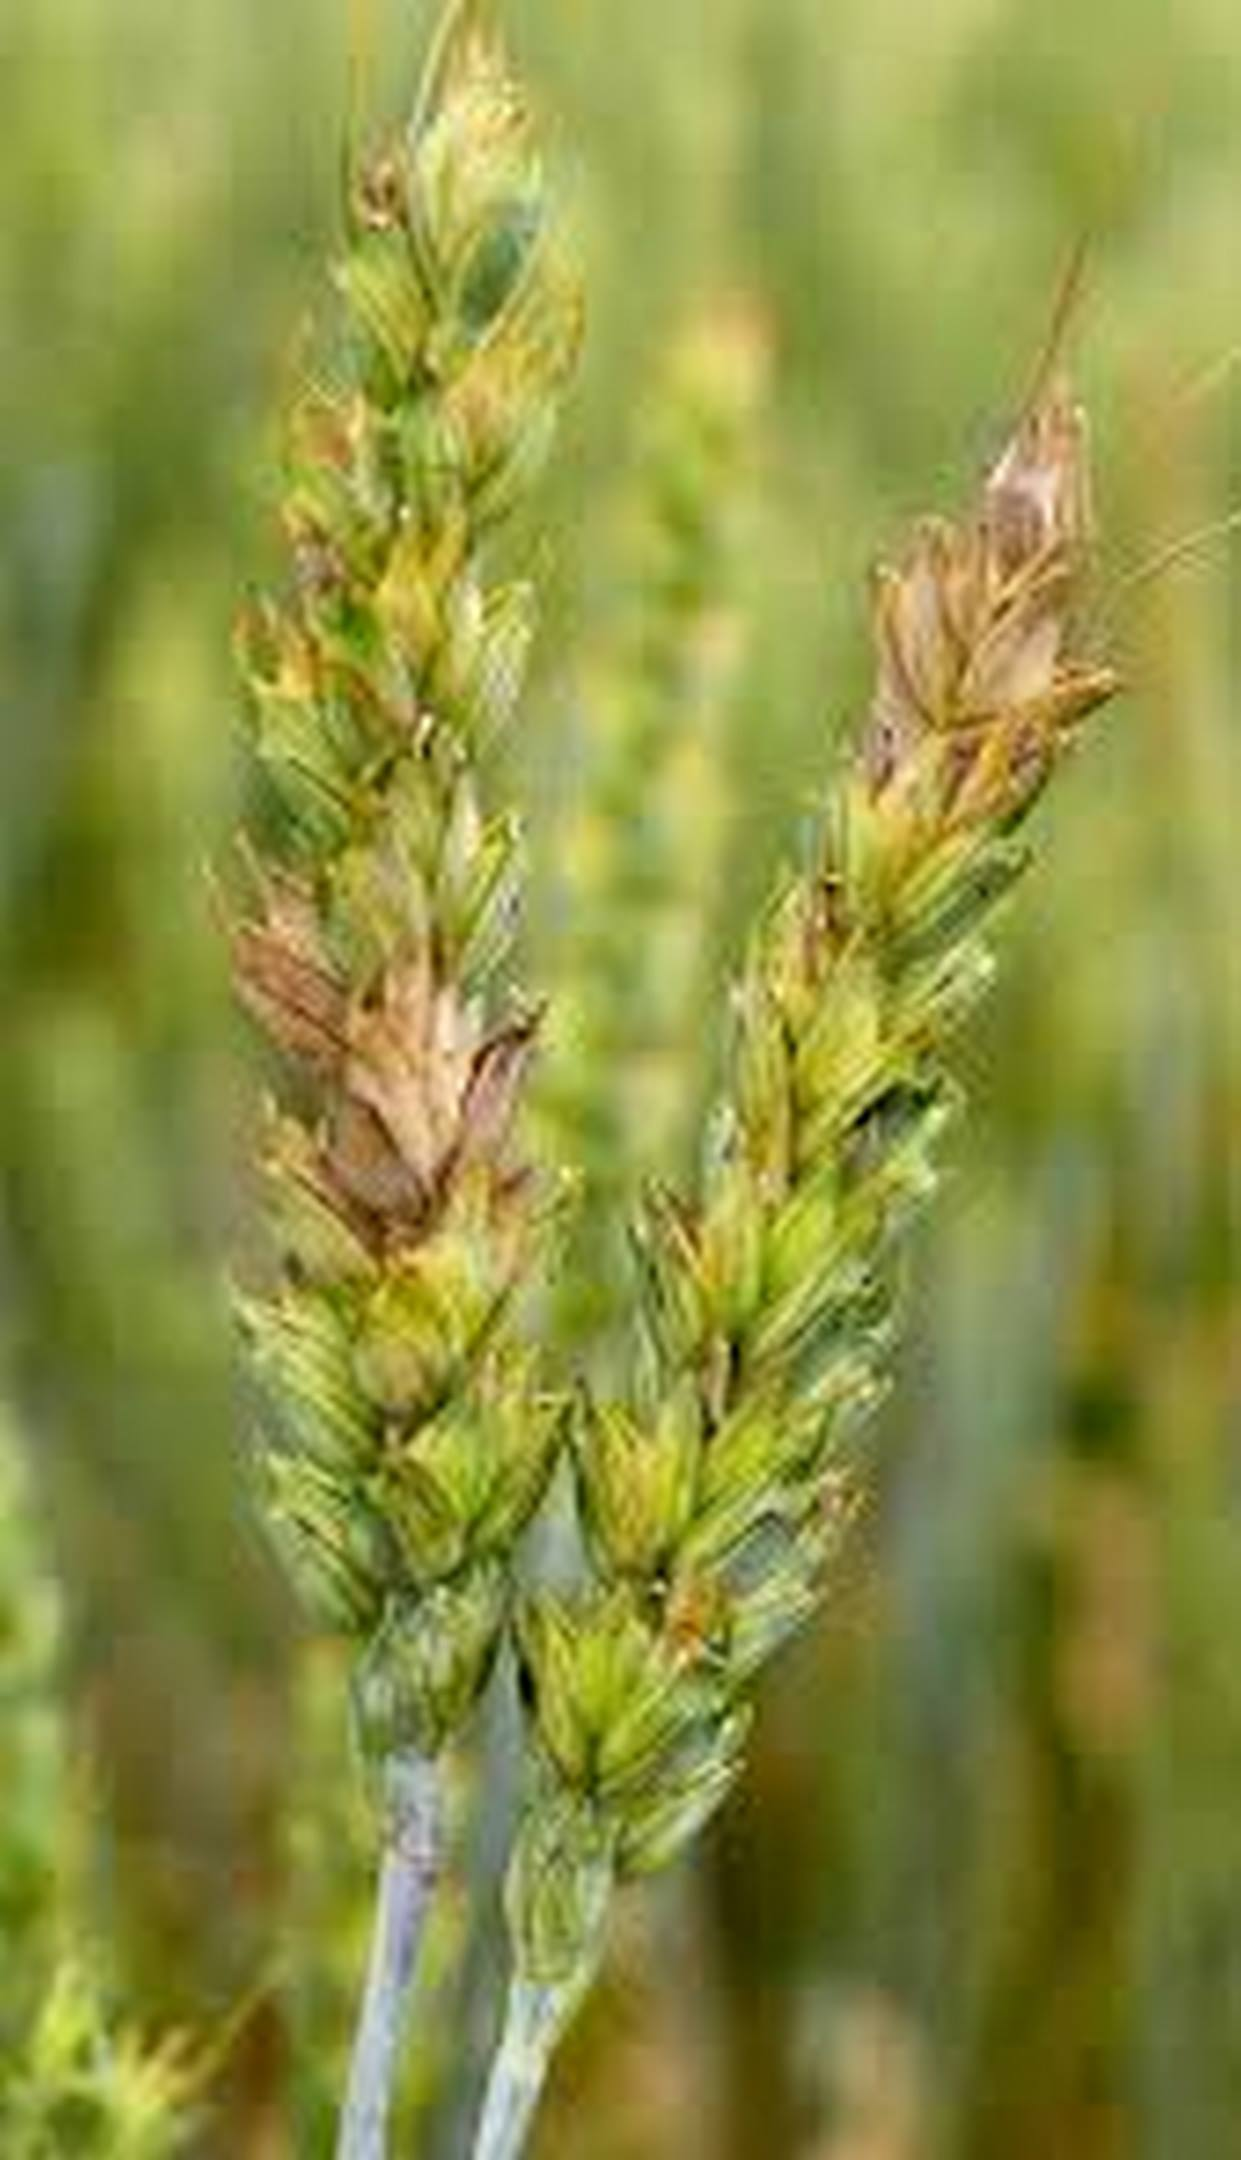Wheat scab: (572, 289, 1237, 1840), (205, 49, 557, 1679)
